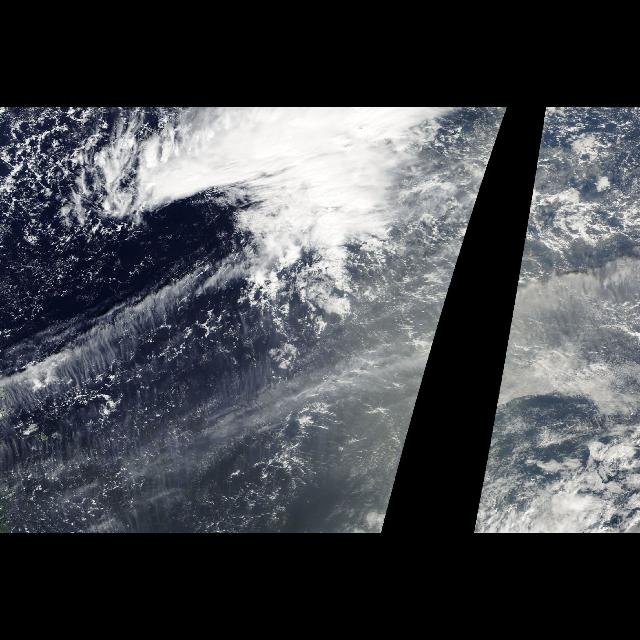Fish: (36, 278, 296, 416)
Sugar: (151, 332, 375, 452), (558, 184, 626, 470)
